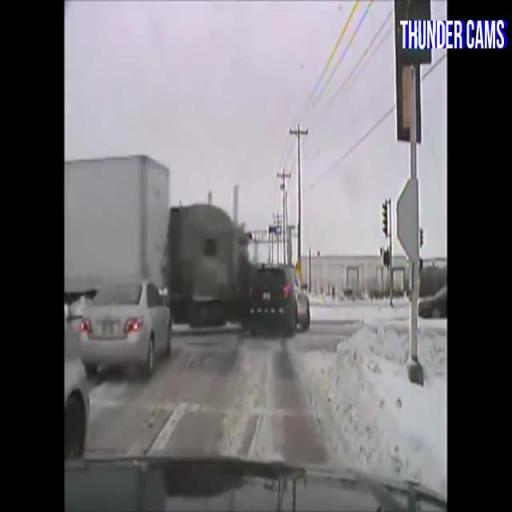小汽车: (83, 284, 177, 370)
小汽车撞小汽车: (71, 160, 313, 339)
